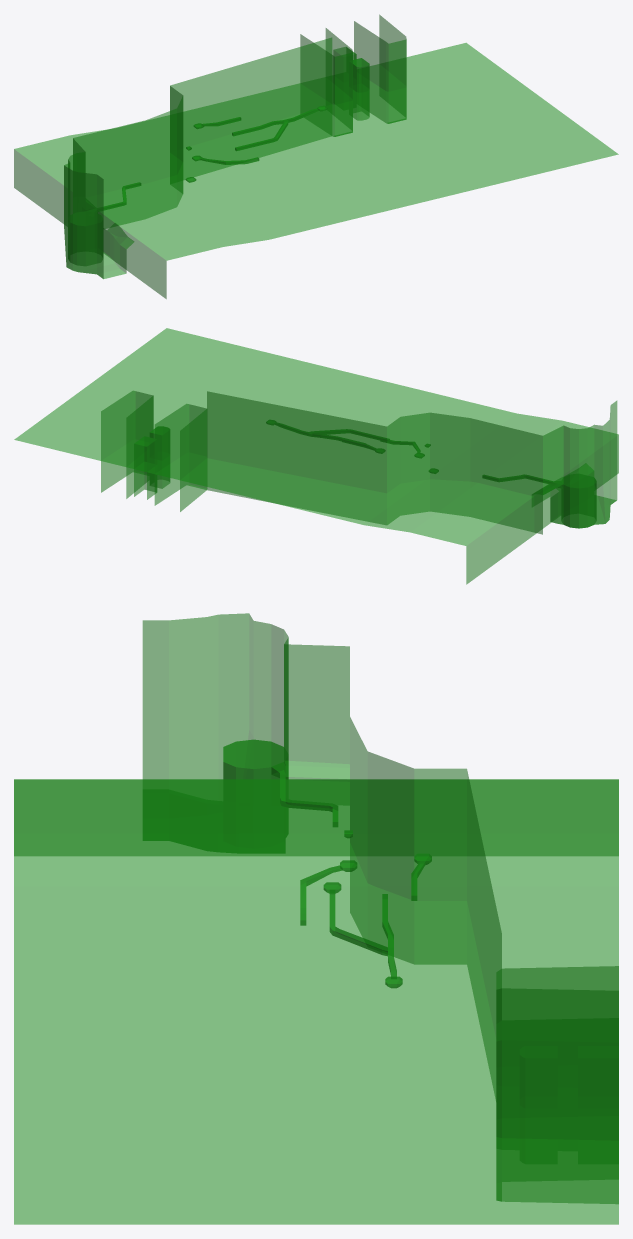
The model's file is camera_col.obj.
3 renders of one model, top to bottom at view 1: azimuth 30°, elevation 25°; view 2: azimuth 150°, elevation 25°; view 3: azimuth 270°, elevation 25°, orthographic. The views are drawn at different scales.
Size of the model in its own units: 388 by 77.86 by 207.
